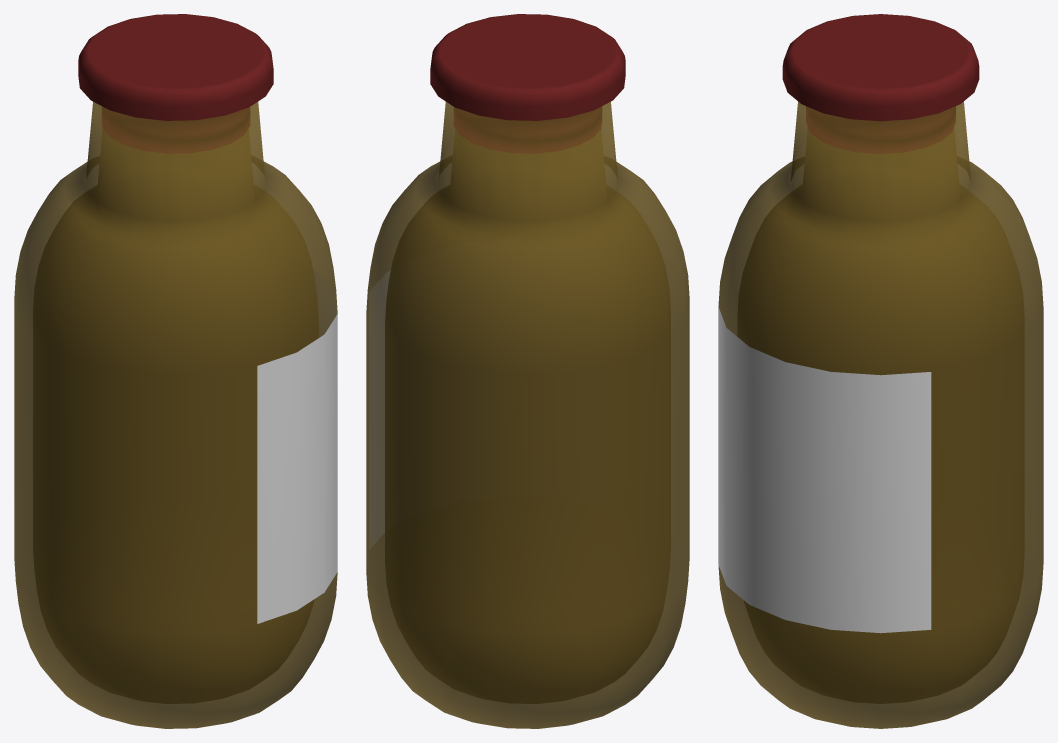
The model's file is can.fbx.
3 views of the same model, side by side, from view 1: azimuth 30°, elevation 25°; view 2: azimuth 150°, elevation 25°; view 3: azimuth 270°, elevation 25° (orthographic).
Parts seen in each view (by area): view 1: pCylinder1, pCylinder3, pCylinder2; view 2: pCylinder1, pCylinder3, pCylinder2; view 3: pCylinder1, pCylinder3, pCylinder2.
Boxes of the visible parts, x1,y1,x2,y2 form: pCylinder1: [14, 101, 337, 728]; pCylinder3: [33, 129, 318, 703]; pCylinder2: [78, 14, 273, 153]; pCylinder1: [366, 101, 689, 728]; pCylinder3: [385, 129, 670, 703]; pCylinder2: [430, 14, 625, 153]; pCylinder1: [718, 101, 1043, 728]; pCylinder3: [737, 129, 1024, 703]; pCylinder2: [782, 14, 979, 153].
Bounding box in the file's own units: 9.67 × 20.96 × 9.67.
